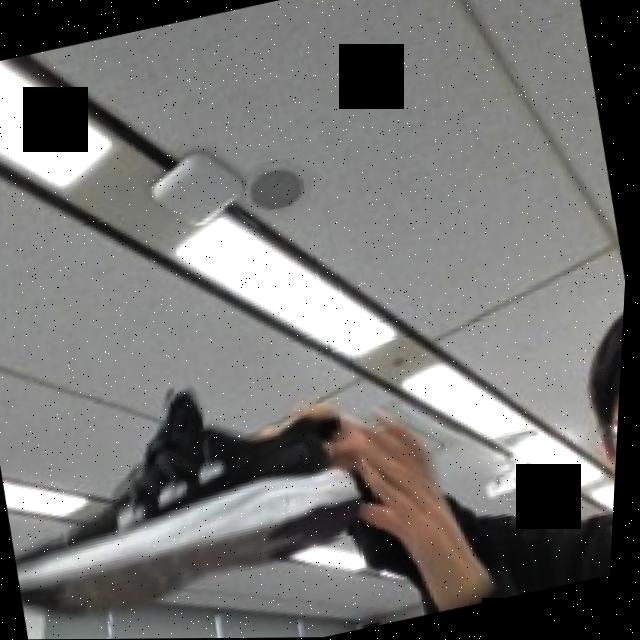shoe: (0, 339, 400, 607)
